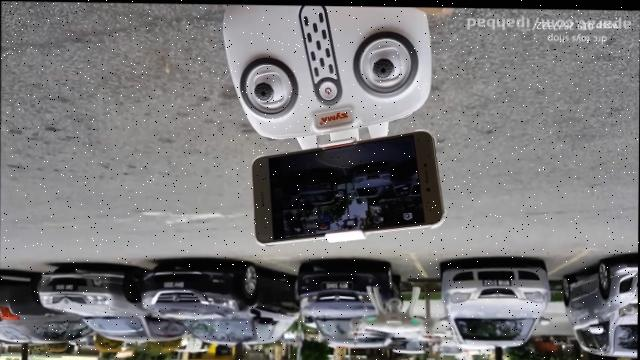drone: (333, 284, 444, 343)
